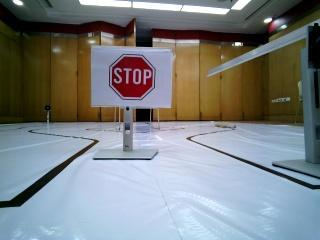stop: (96, 49, 167, 103)
